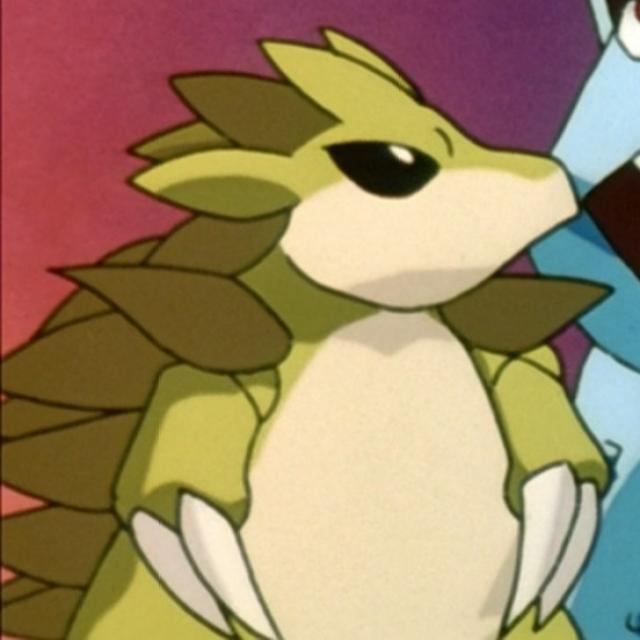Sandslash: (59, 51, 582, 640)
